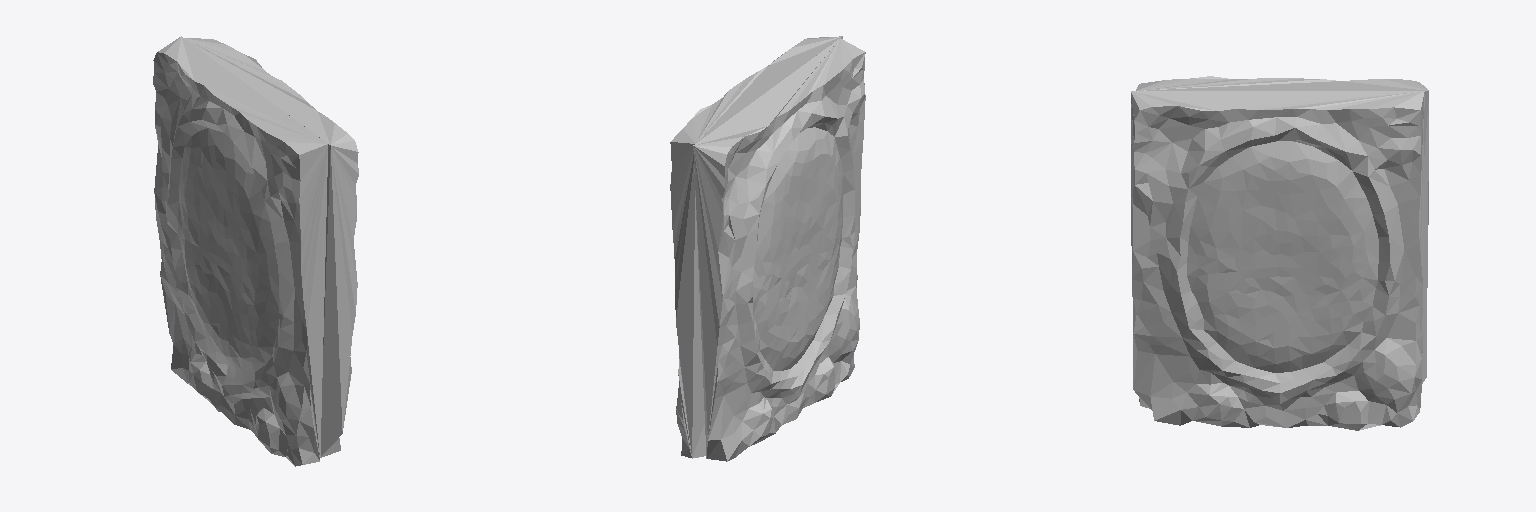
The model's file is stonetablet.obj.
3 renders of one model, left to right at view 1: azimuth 30°, elevation 25°; view 2: azimuth 150°, elevation 25°; view 3: azimuth 270°, elevation 25°, orthographic.
Visible parts, largest first — view 1: model.001; view 2: model.001; view 3: model.001.
Boxes of the visible parts, x1=… form: model.001: x1=153, y1=36, x2=358, y2=466; model.001: x1=670, y1=36, x2=865, y2=461; model.001: x1=1131, y1=76, x2=1428, y2=430.
Size of the model in its own units: 1.06 by 4.18 by 3.42.